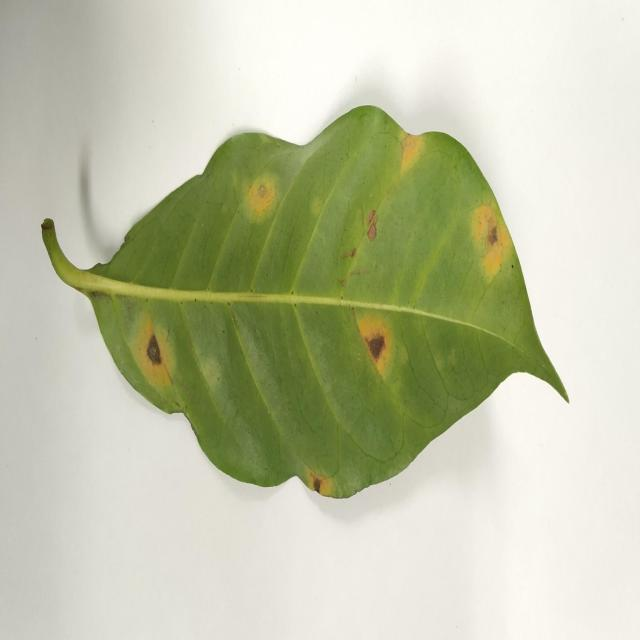Enfermedad-Roya: (39, 106, 568, 502)
